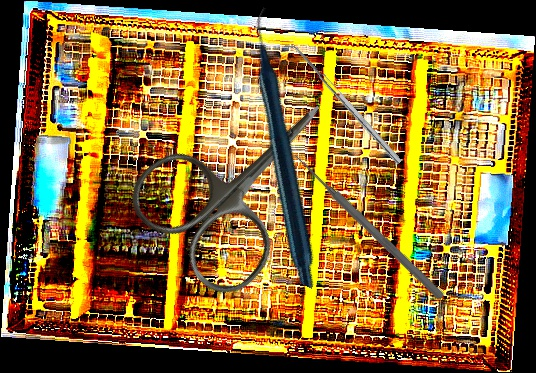Handpiece: (161, 7, 414, 289)
Iris Scissors: (116, 50, 376, 309)
Pusher: (289, 149, 447, 302)
Spatula Surgical: (282, 38, 403, 170)
